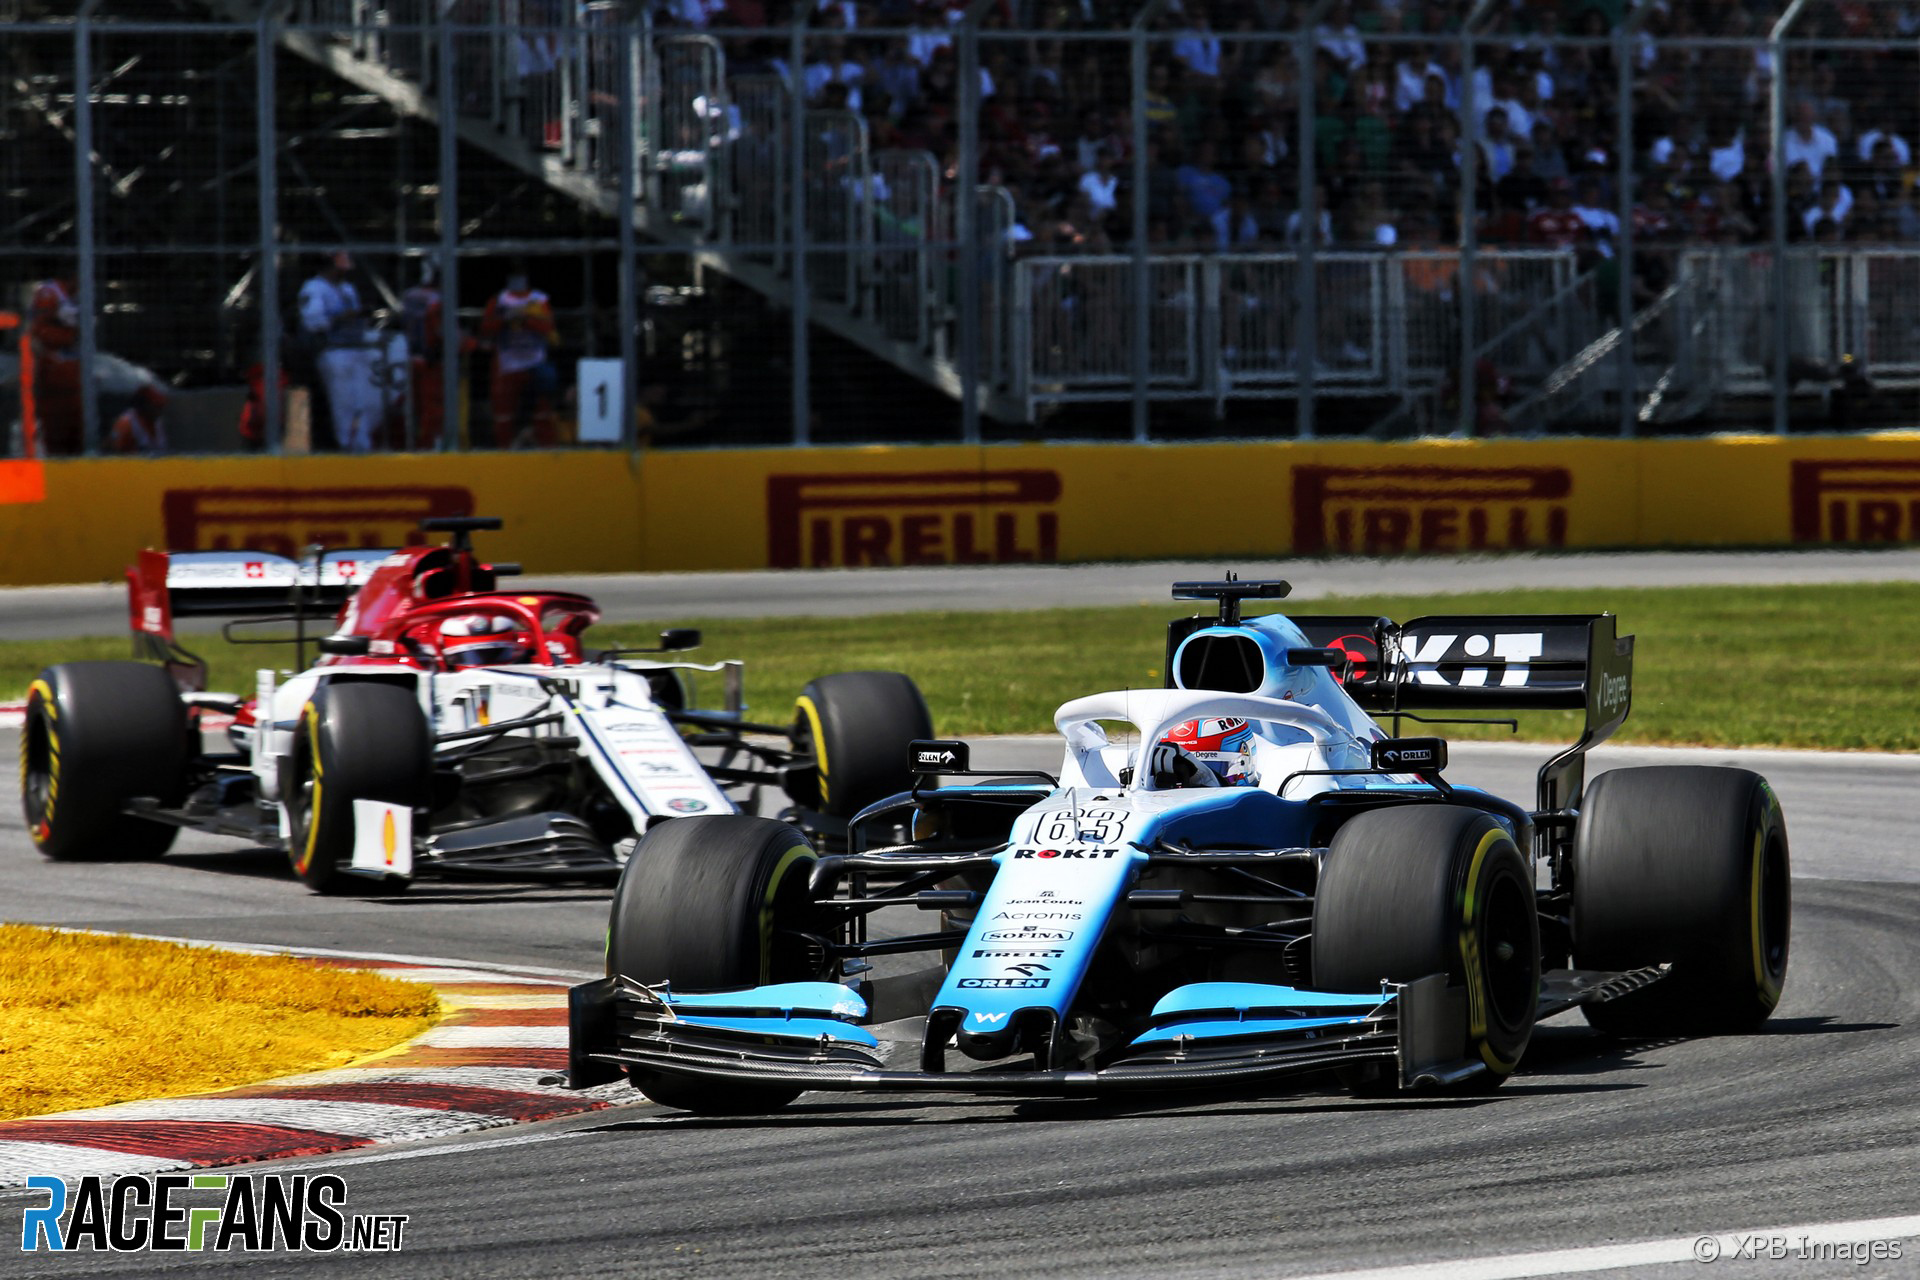F1 Car: (603, 569, 1806, 1136), (11, 500, 926, 879)
